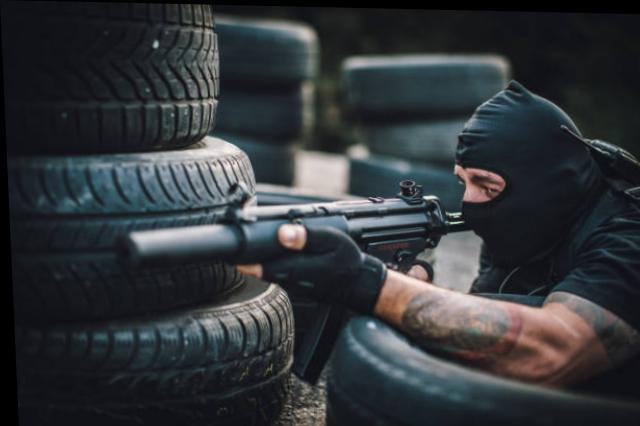other: (443, 77, 640, 371)
